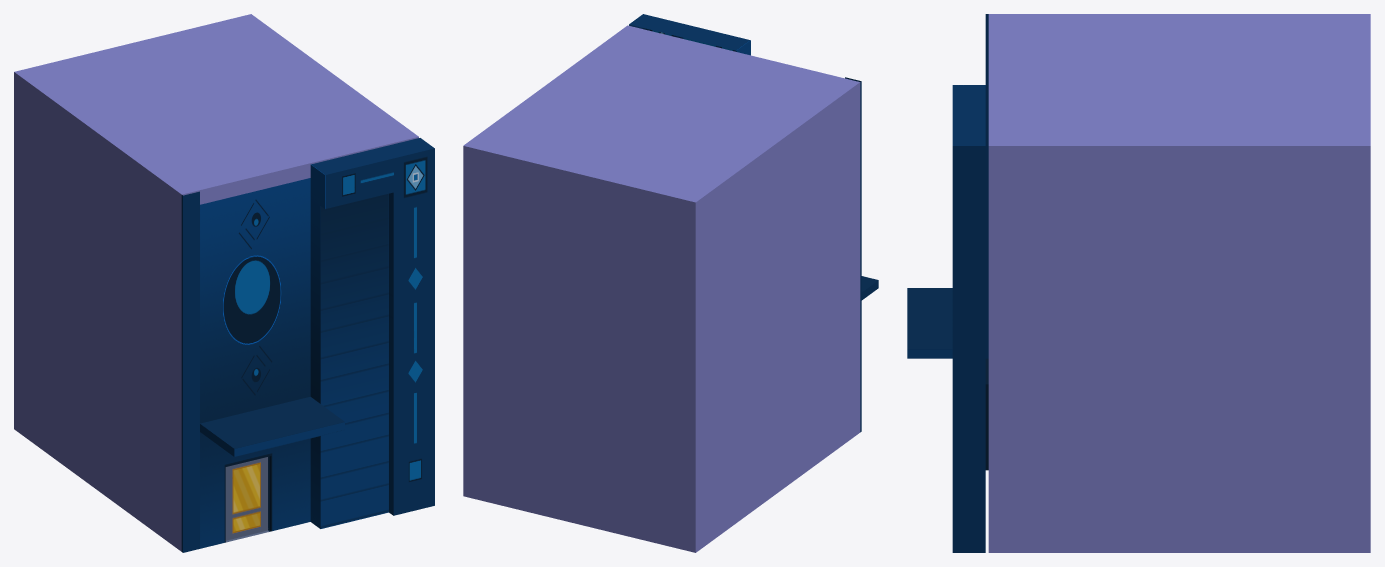
Rendered from ZachBldg5.fbx.
3 views of the same model, side by side, from view 1: azimuth 30°, elevation 25°; view 2: azimuth 150°, elevation 25°; view 3: azimuth 270°, elevation 25° (orthographic). The views are drawn at different scales.
Parts seen in each view (by area): view 1: Inside_Building7, B5:Building_5:pPlane1; view 2: Inside_Building7, B5:Building_5:pPlane1; view 3: Inside_Building7, B5:Building_5:pPlane1.
Boxes of the visible parts, x1=… form: Inside_Building7: x1=14, y1=14, x2=418, y2=551; B5:Building_5:pPlane1: x1=181, y1=138, x2=434, y2=552; Inside_Building7: x1=463, y1=25, x2=860, y2=552; B5:Building_5:pPlane1: x1=629, y1=14, x2=878, y2=432; Inside_Building7: x1=988, y1=14, x2=1370, y2=552; B5:Building_5:pPlane1: x1=907, y1=14, x2=988, y2=552.
Bounding box in the file's own units: 6.66 × 9.59 × 9.9.
2 materials, 1 textured.
